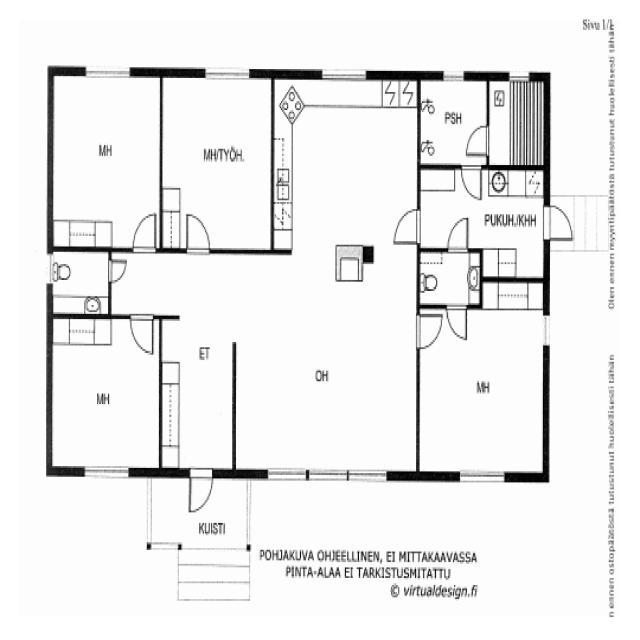door: (421, 79, 489, 167), (389, 204, 424, 248), (543, 202, 578, 246), (186, 466, 215, 516), (412, 310, 445, 353), (128, 310, 157, 358), (183, 208, 212, 256), (462, 119, 493, 162), (278, 82, 306, 128), (131, 210, 159, 255), (444, 301, 470, 345), (444, 214, 472, 254), (459, 161, 485, 204), (106, 254, 128, 286)
window: (261, 466, 352, 488), (306, 465, 392, 487), (453, 465, 512, 490), (200, 61, 256, 85), (316, 63, 372, 86), (78, 462, 134, 484), (80, 62, 134, 84), (262, 465, 310, 484), (438, 66, 469, 86), (539, 310, 553, 352), (42, 251, 57, 290), (504, 67, 536, 85)
zone: (236, 257, 420, 474), (271, 74, 420, 248), (418, 286, 550, 480), (49, 71, 163, 251), (161, 71, 274, 252), (48, 315, 162, 475), (163, 261, 235, 476), (420, 172, 547, 261), (421, 75, 488, 169), (488, 77, 546, 169), (50, 249, 110, 317), (418, 250, 483, 306)
